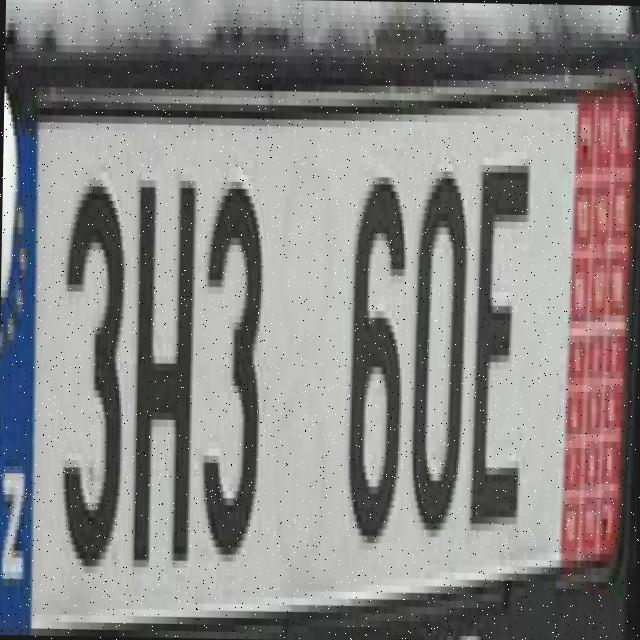EU: (0, 90, 637, 627)
Tcheque: (0, 102, 37, 627)
